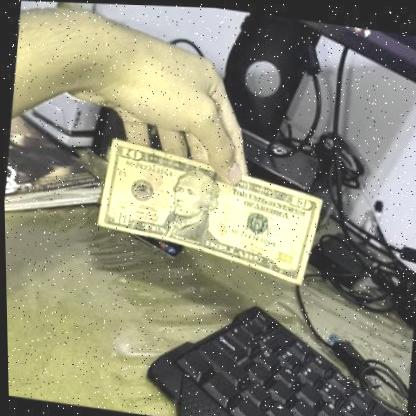ten-front: (91, 134, 328, 282)
